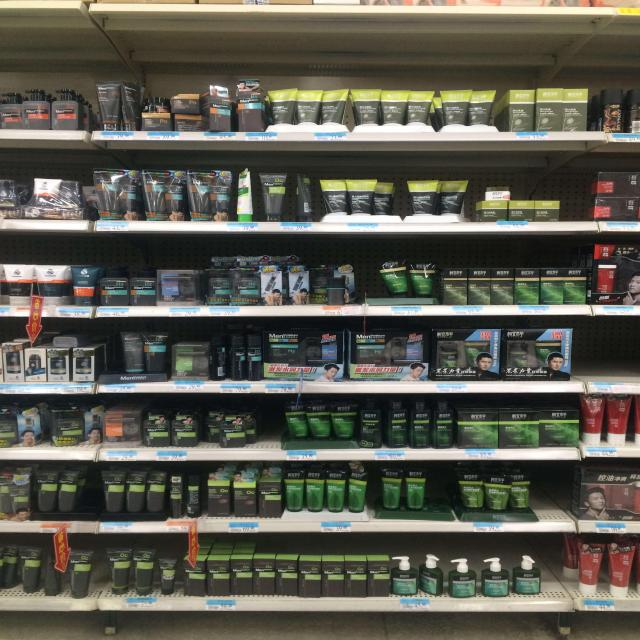empty_space: (584, 334, 640, 371), (560, 167, 591, 218), (545, 541, 568, 592), (540, 478, 568, 511)
